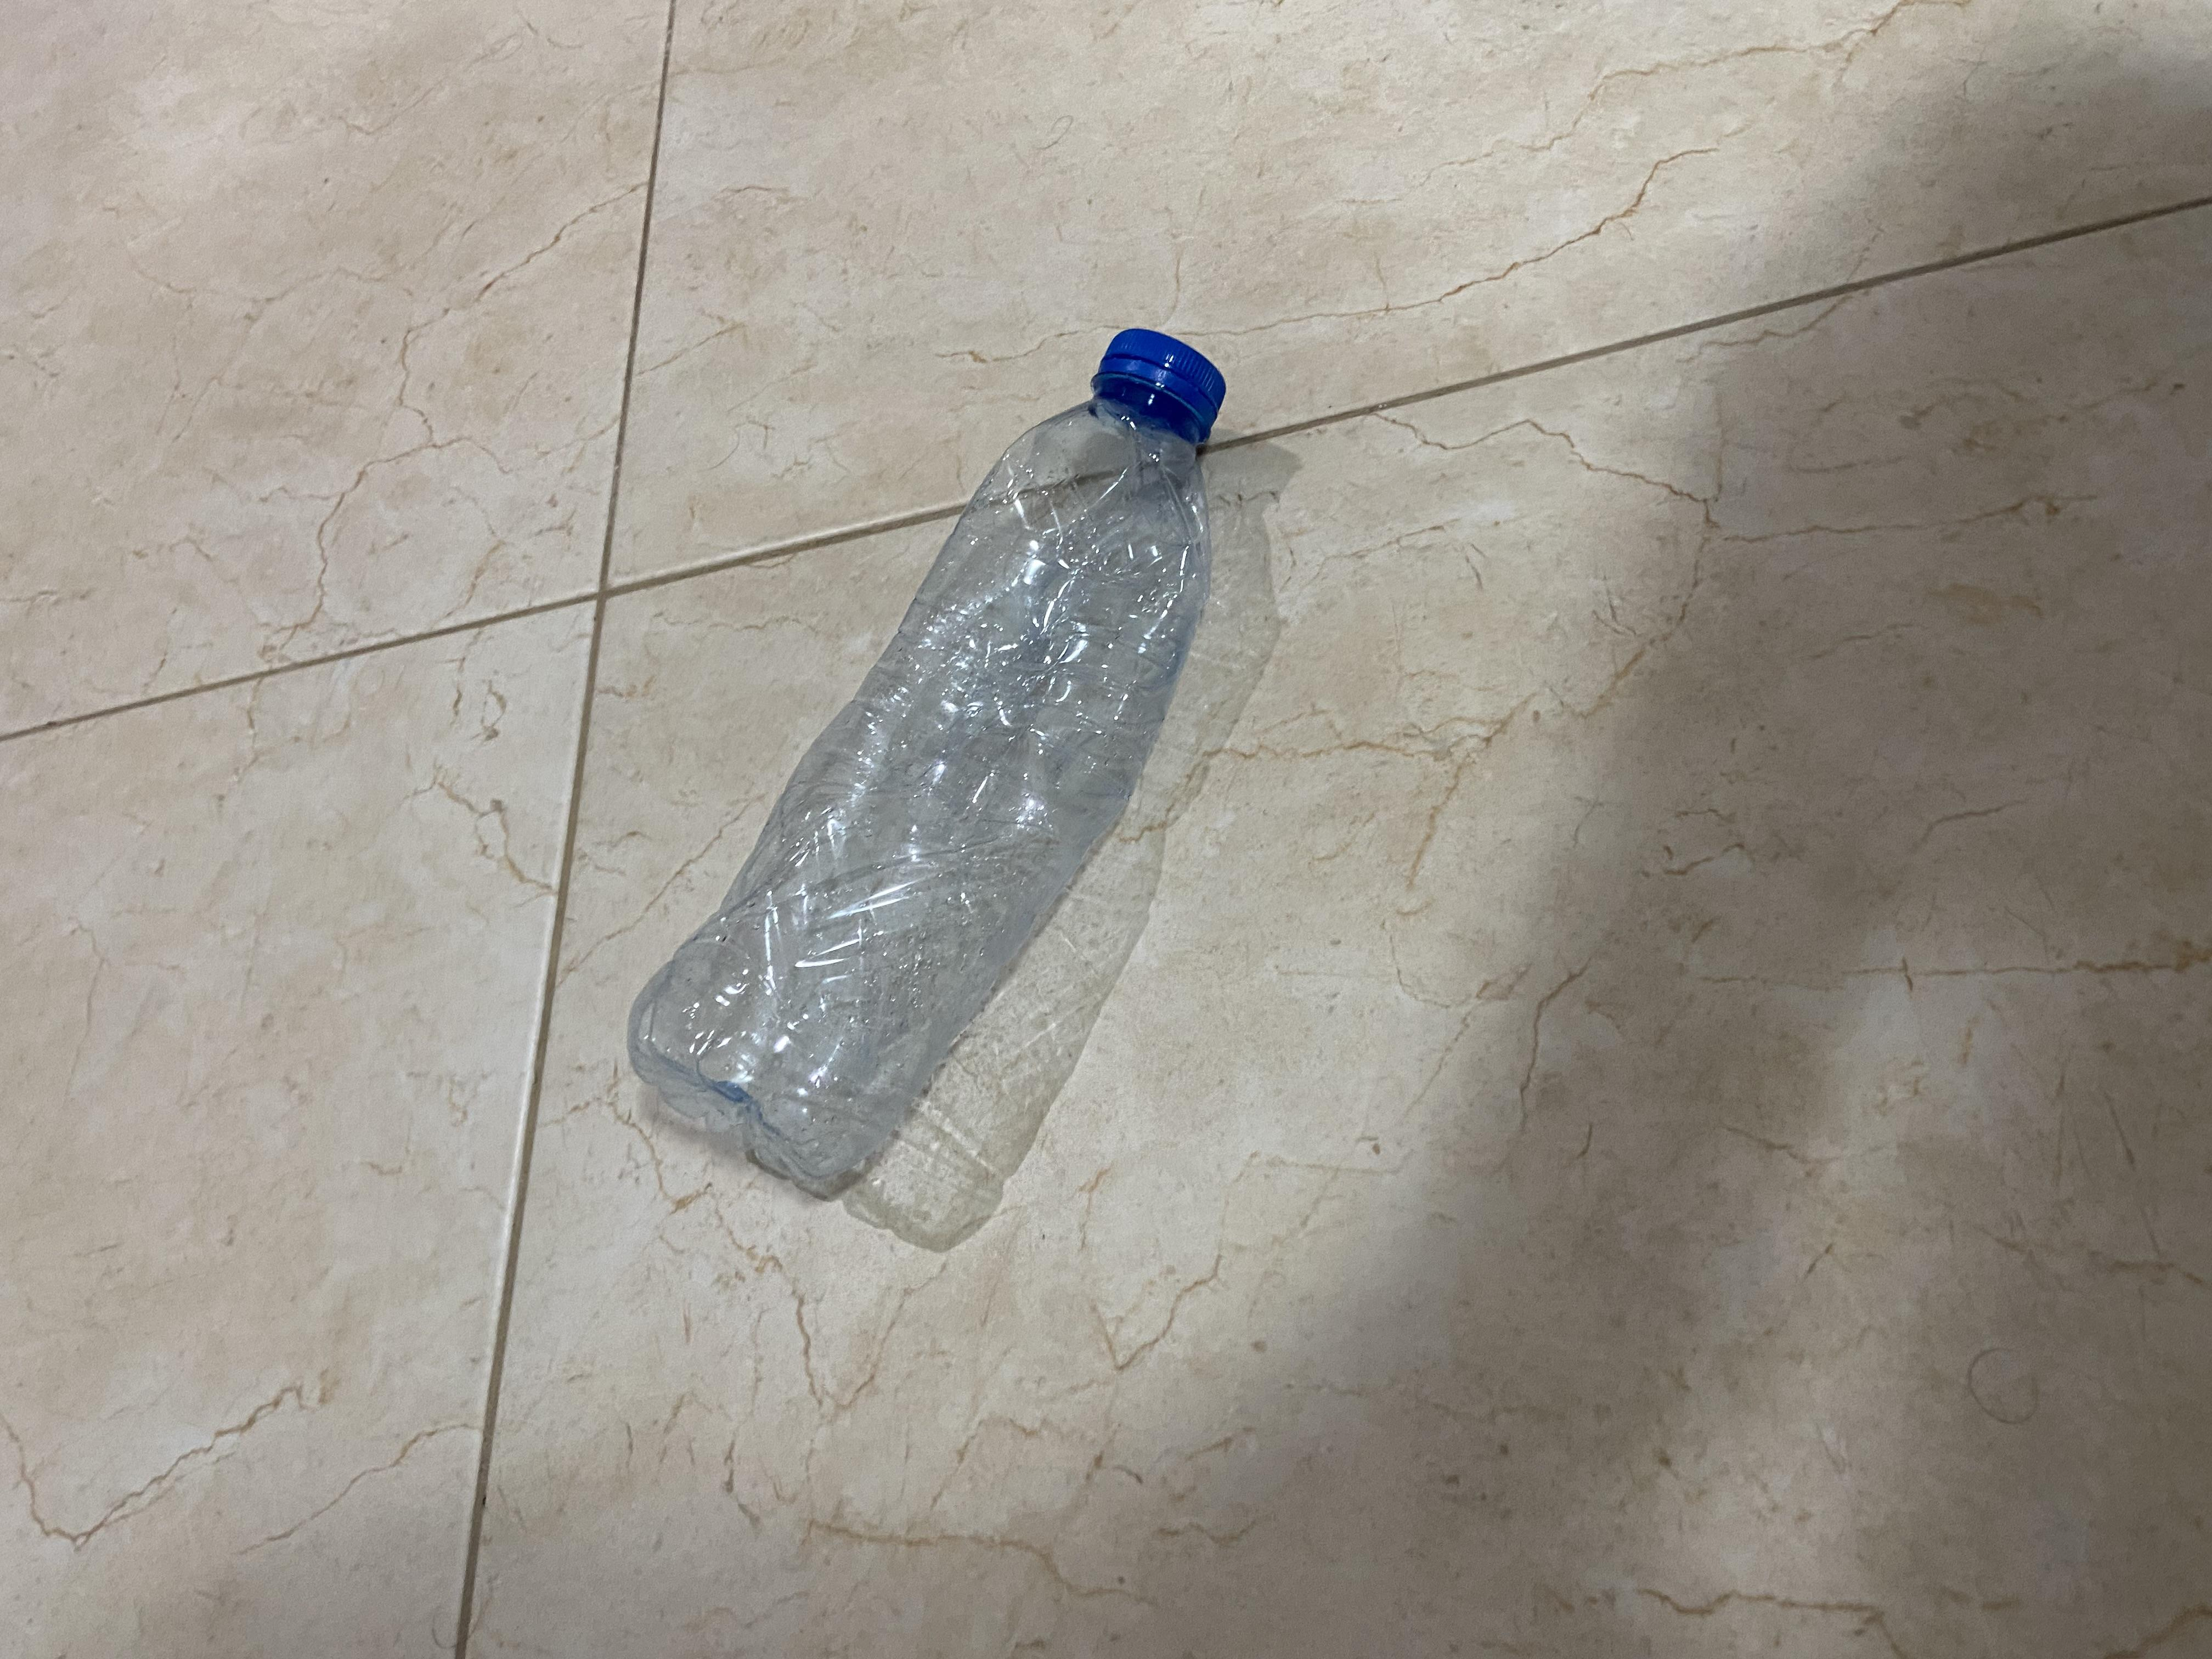bottle: (596, 444, 1799, 948)
